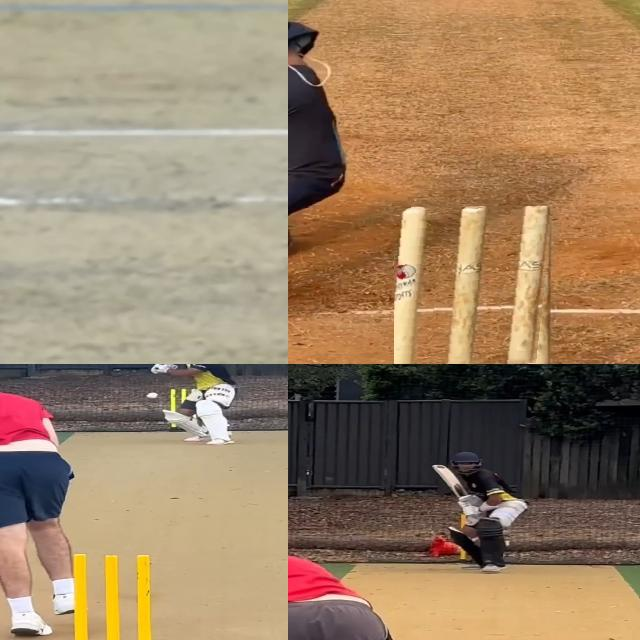Cricket ball: (145, 390, 161, 400)
Stumps: (394, 206, 554, 364), (60, 549, 170, 640)
